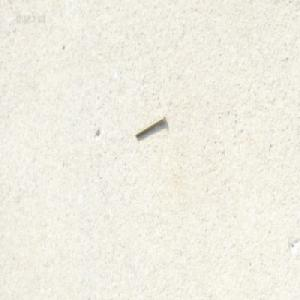Bolt: (134, 113, 165, 138)
